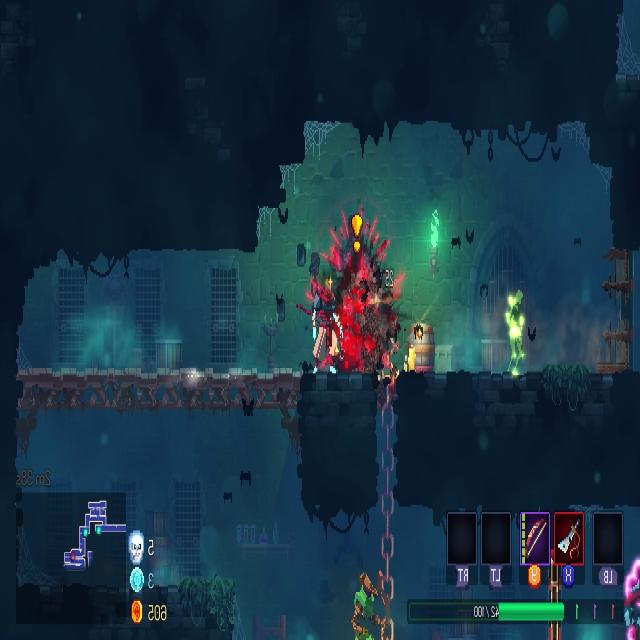agents: (292, 278, 340, 380)
enemy_archer: (350, 572, 378, 639)
enemy_green_puncher: (504, 291, 526, 379)
enemy_purple_big: (625, 555, 640, 633)
wood_floor: (15, 368, 303, 413)
